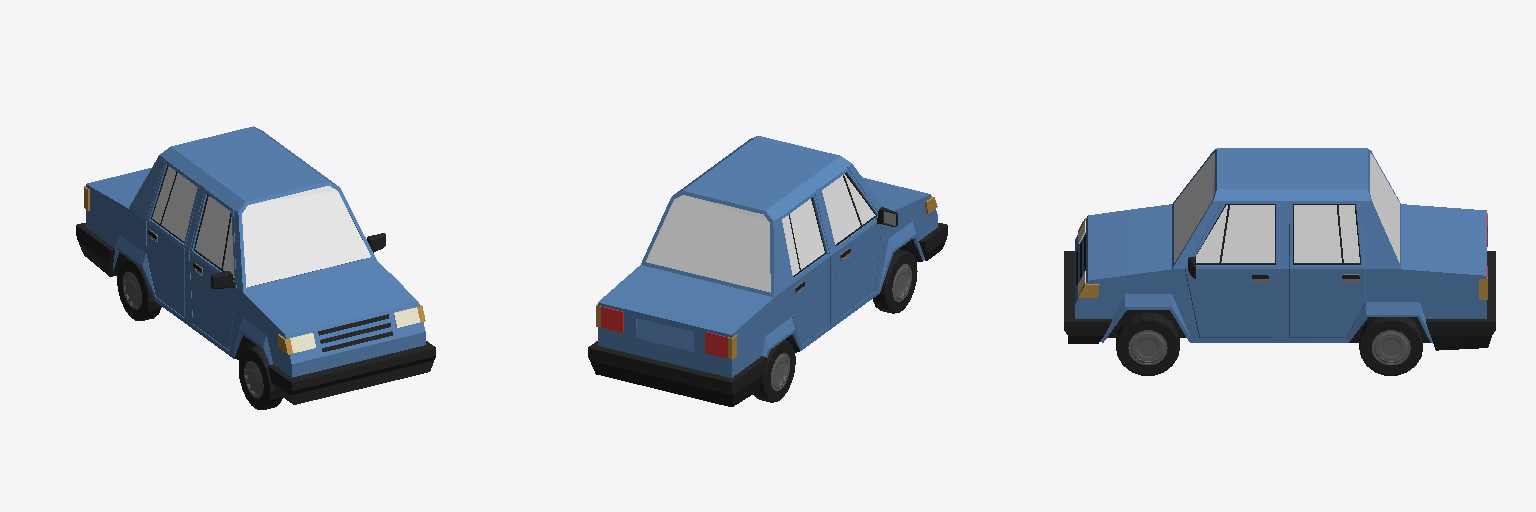
The model's file is car.obj.
The picture shows the model from 3 angles: view 1: azimuth 30°, elevation 25°; view 2: azimuth 150°, elevation 25°; view 3: azimuth 270°, elevation 25°; orthographic projection.
Parts seen in each view (by area): view 1: RR_Wheel1; view 2: RR_Wheel1; view 3: RR_Wheel1.
Part boxes in pixels (left/top/right/bottom): RR_Wheel1: left=76, top=126, right=435, bottom=409; RR_Wheel1: left=588, top=136, right=947, bottom=406; RR_Wheel1: left=1064, top=148, right=1495, bottom=375.
Size of the model in its own units: 104 by 99.75 by 224.